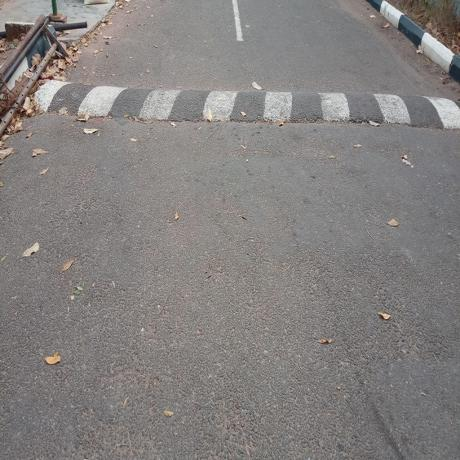Speed Bump: (37, 78, 459, 130)
